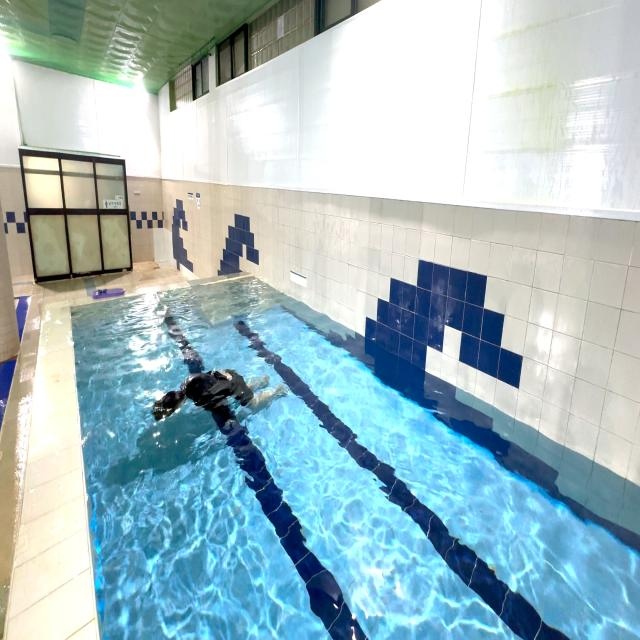Drowning: (144, 360, 293, 450)
